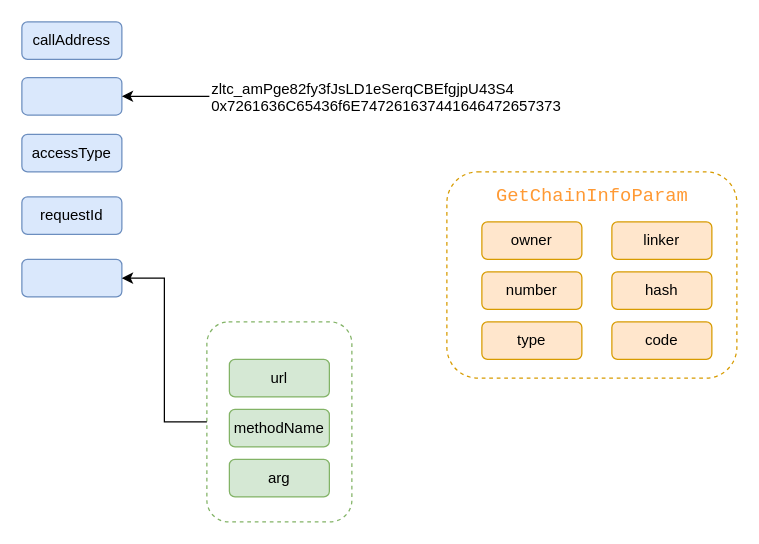
Some shapes in this 759 by 544 pixel diagram are drawn without their labels. Here are the shapes that lost their labels. From the top down, the box of each, then its label:
(21, 76, 122, 115): oracle
(21, 258, 122, 297): data
